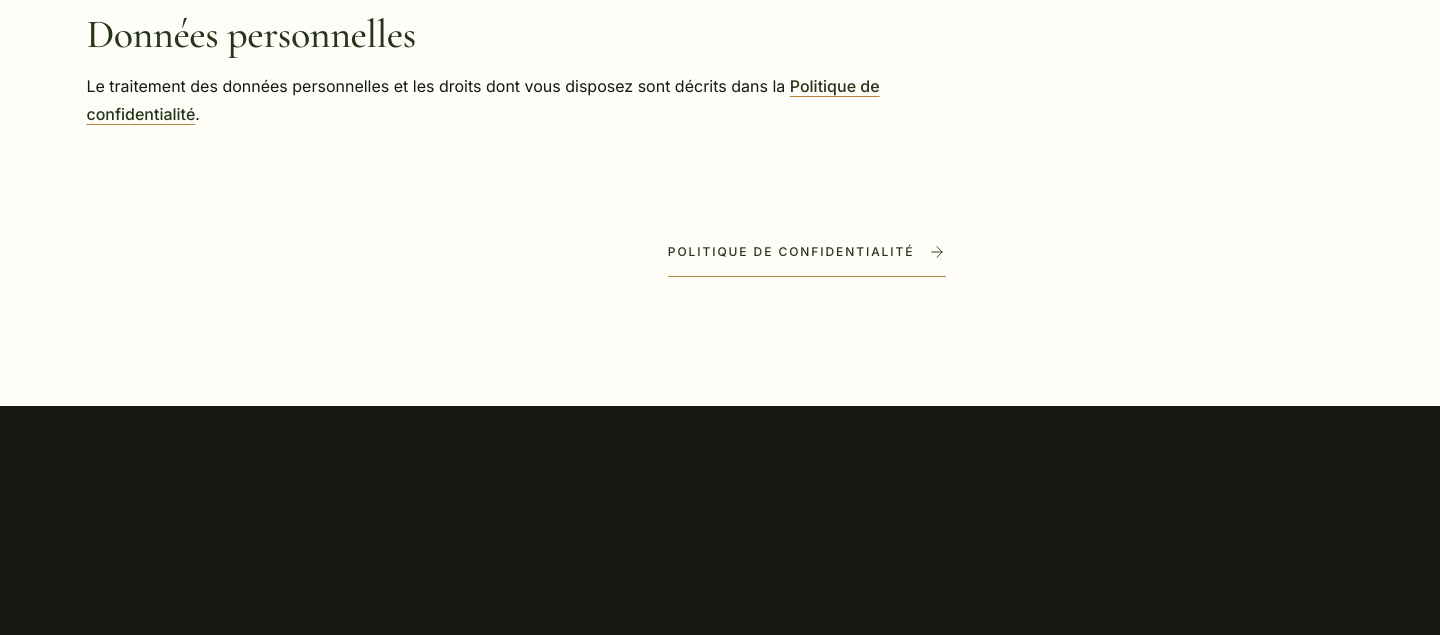
it: Mentions légales › renvoie vers la Politique de confidentialité
(page scrolled)
Click the 2nd link "Politique de confidentialité".
click(807, 253)  # box [668, 229, 946, 277]
(page scrolled)
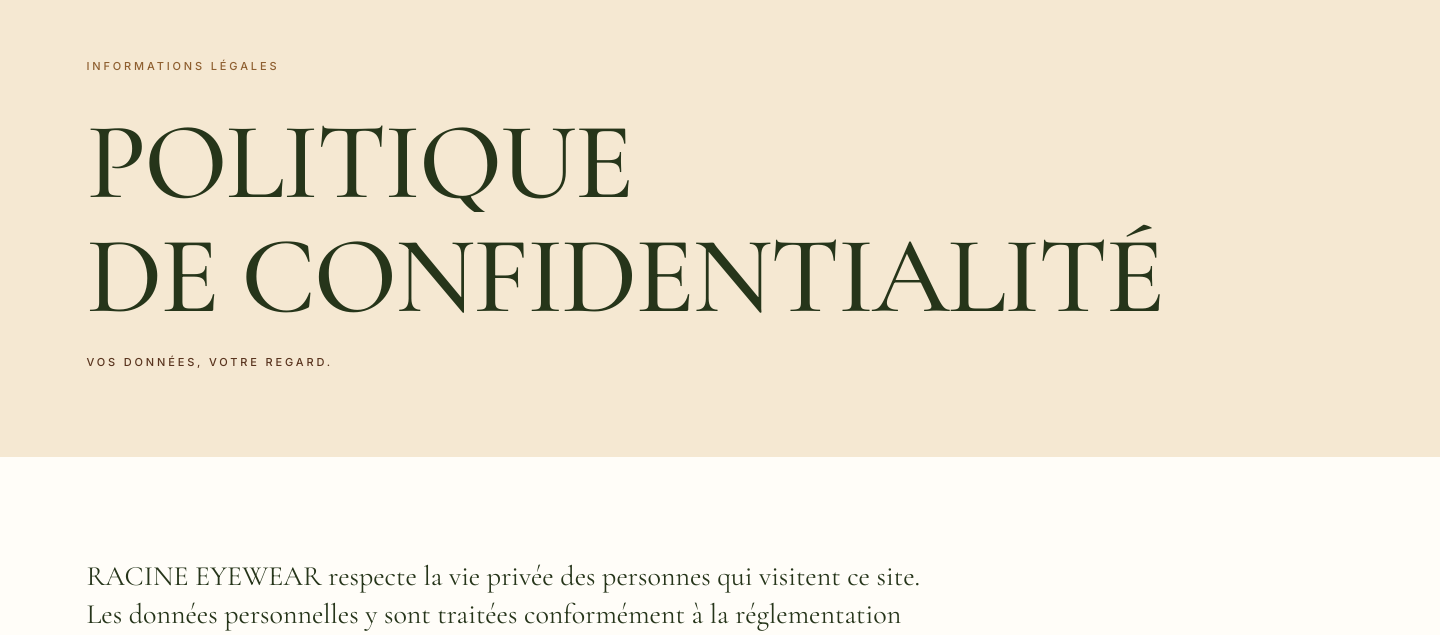
Expected: the heading "Politique de confidentialité" is shown, [86, 96, 1163, 342]
